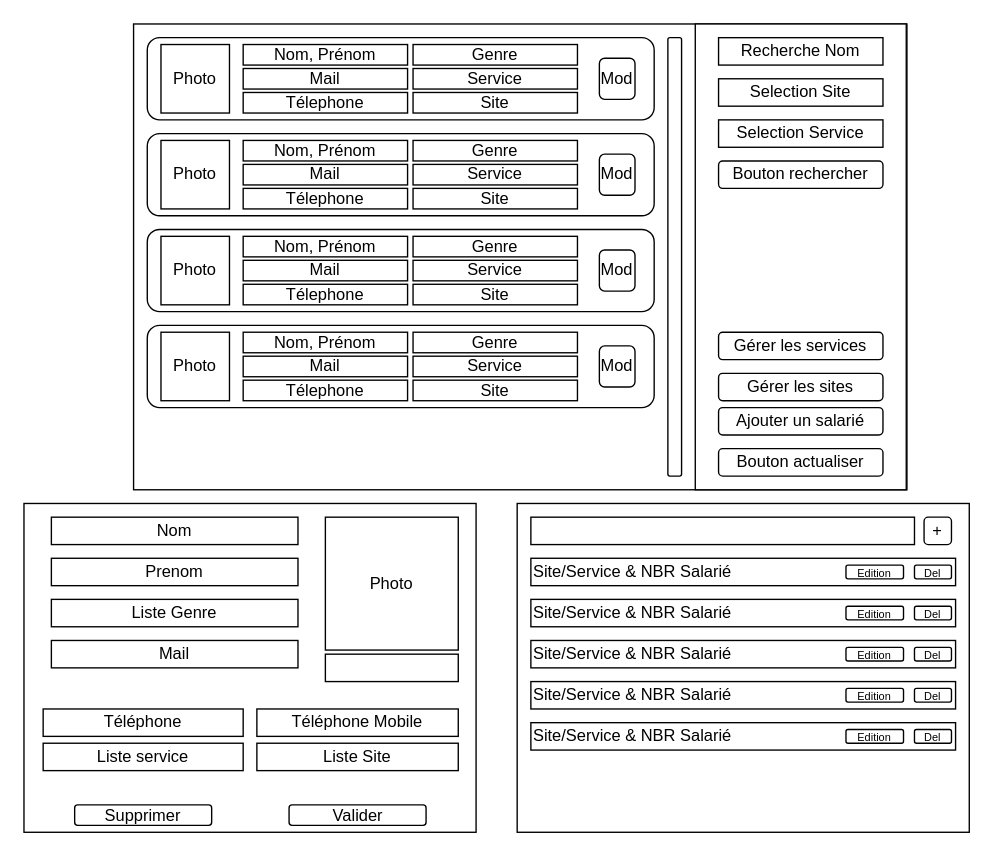
This 993x856 diagram has some shape labels left out. The centre of each missing label's shape, as x and y in pixels:
"Champ ajout site/service" goes at (722,530).
"Changer Photo" goes at (391,667).
